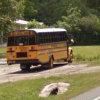Bus: (5, 25, 74, 72)
